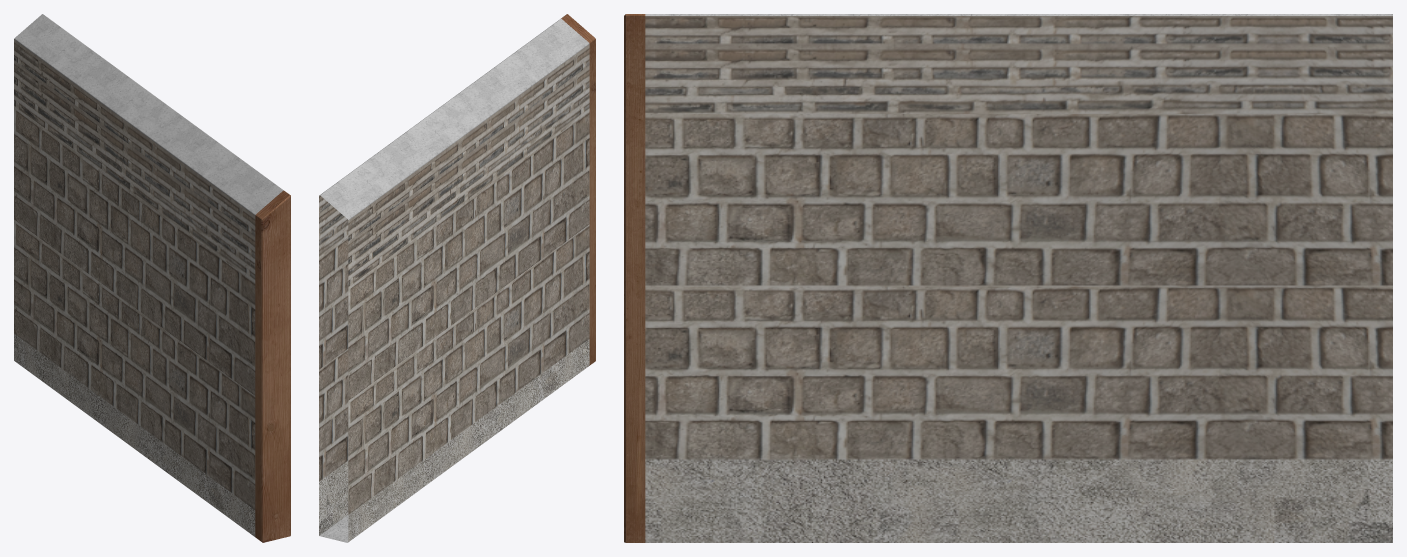
File: SM_JSH_HG_StoneWallA.fbx
3 renders of one model, left to right at view 1: azimuth 30°, elevation 25°; view 2: azimuth 150°, elevation 25°; view 3: azimuth 270°, elevation 25°, orthographic. The views are drawn at different scales.
Visible parts, largest first — view 1: SM_JSH_HG_StoneWallA; view 2: SM_JSH_HG_StoneWallA; view 3: SM_JSH_HG_StoneWallA.
Part boxes in pixels (x1,y1,x2,y2): SM_JSH_HG_StoneWallA: (14,14,290,542); SM_JSH_HG_StoneWallA: (319,14,595,542); SM_JSH_HG_StoneWallA: (624,14,1392,542).
Bounding box in the file's own units: 16.75 × 245 × 186.
Materials: 1 (1 with a texture image).
